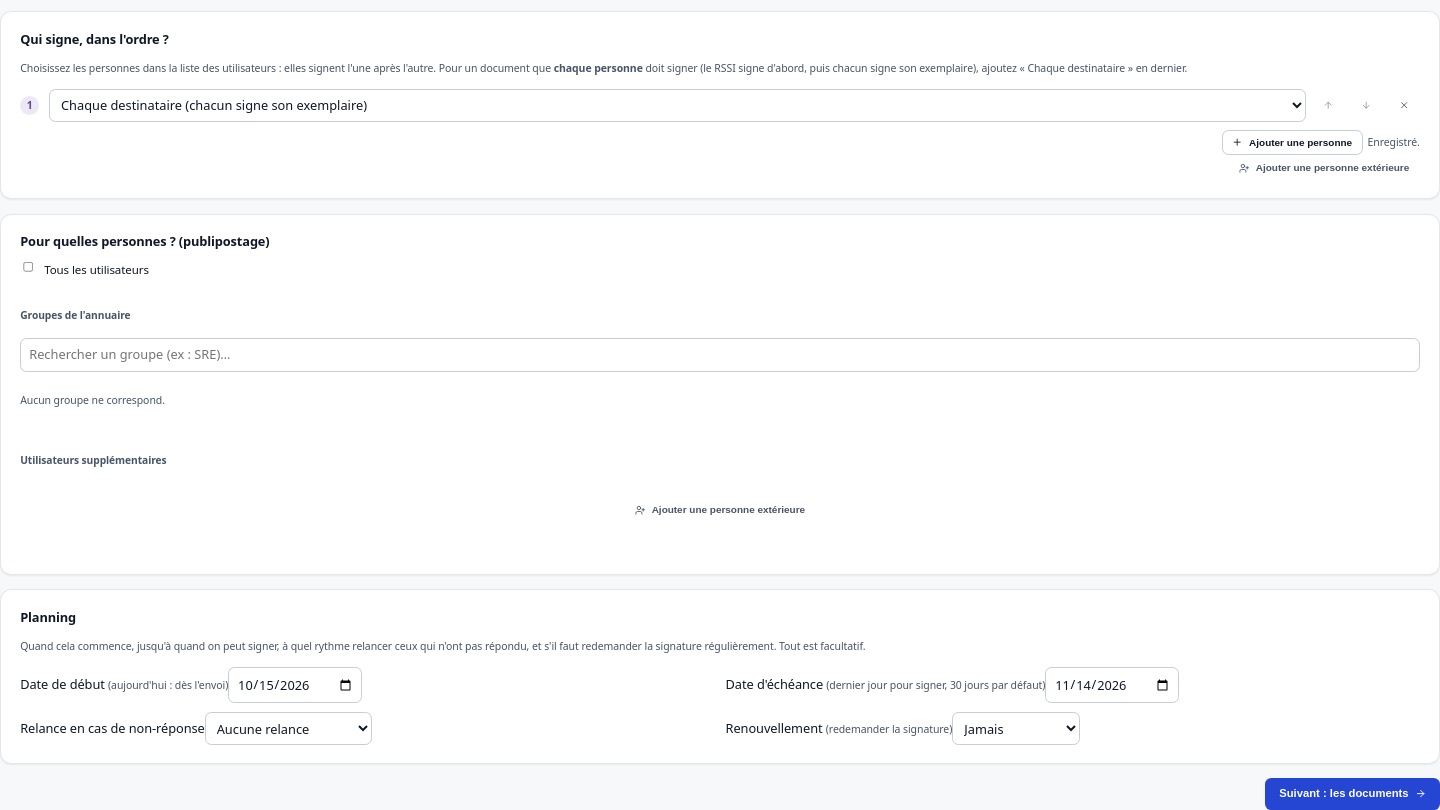
SignRequestPage › schedules the sending when a start date in the future is given
(page scrolled)
Expected: the element with test id "policy-card" is shown, left=0, top=589, right=1439, bottom=764
Type "2099-01-01" into the date field labelled "Date de début (aujourd'hui : dès l'envoi)".
click(295, 685); type("2099-01-01")  # box left=228, top=667, right=362, bottom=703
(page scrolled)
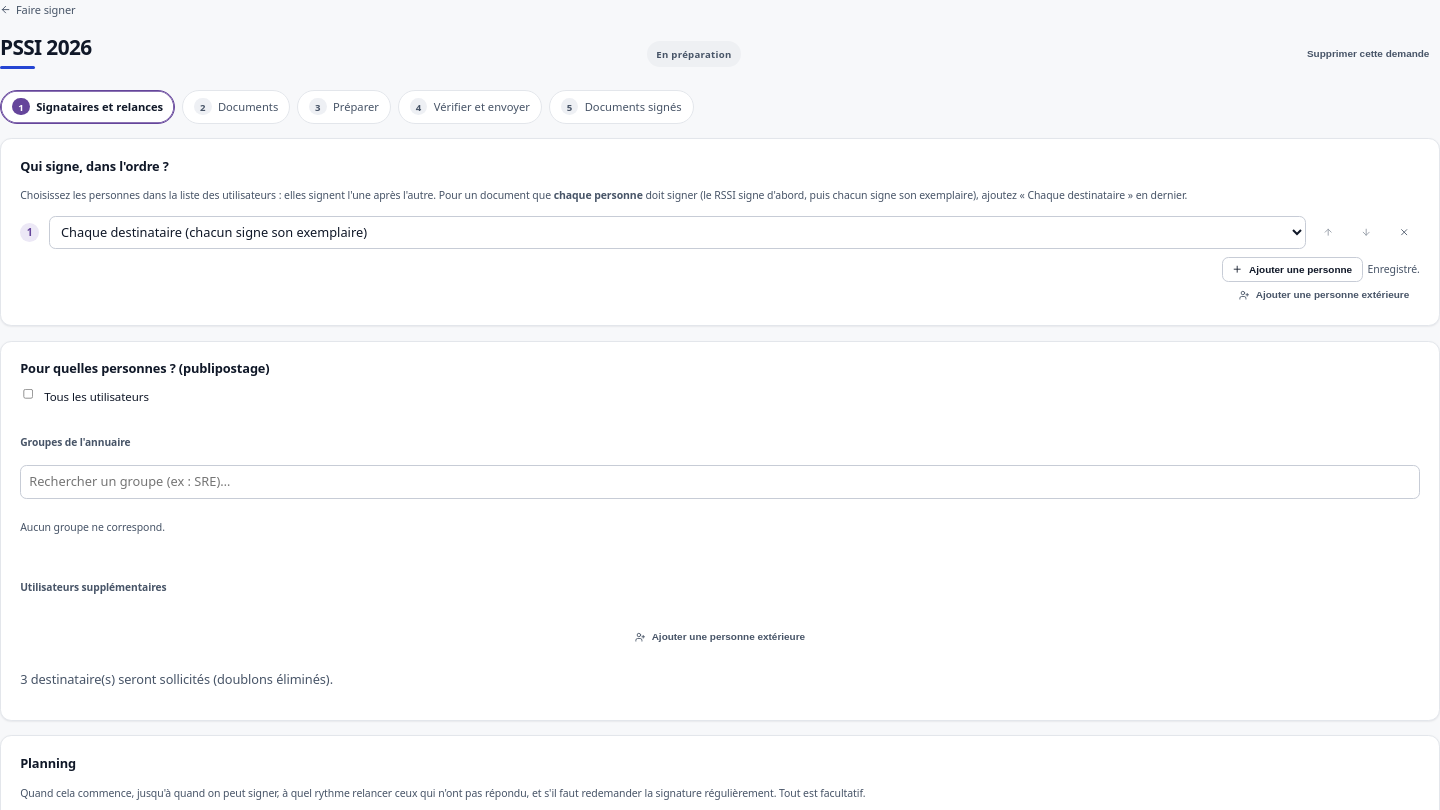
Click the button "4 Vérifier et envoyer".
click(470, 107)  # box left=398, top=90, right=542, bottom=124
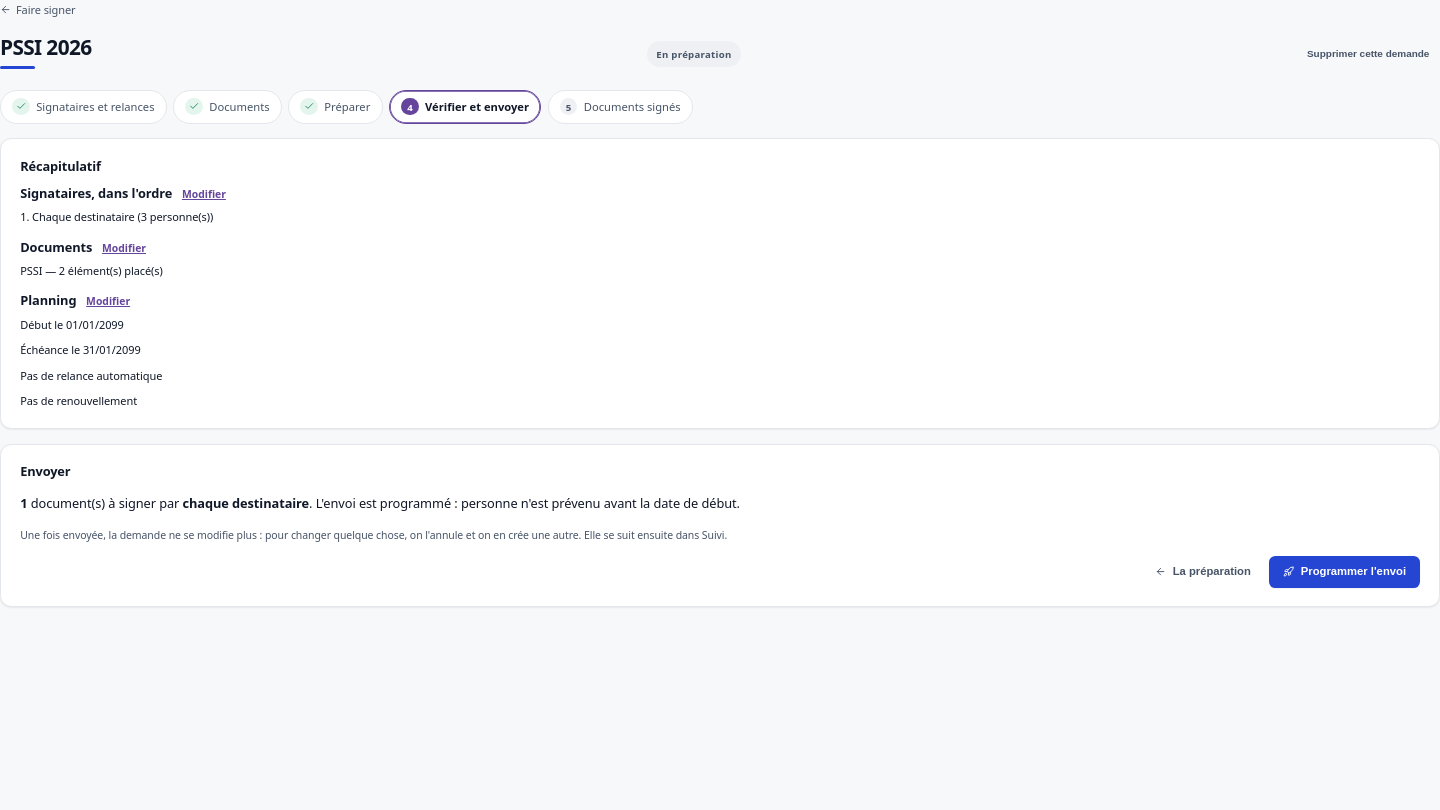
Result: the element with test id "recap-card" is shown at left=0, top=138, right=1439, bottom=429
Result: the element with test id "send-summary" shows "programmé : personne n'est prévenu avant" at left=316, top=494, right=740, bottom=512
Click the button "Programmer l'envoi".
click(1345, 572)  # box left=1269, top=556, right=1420, bottom=588
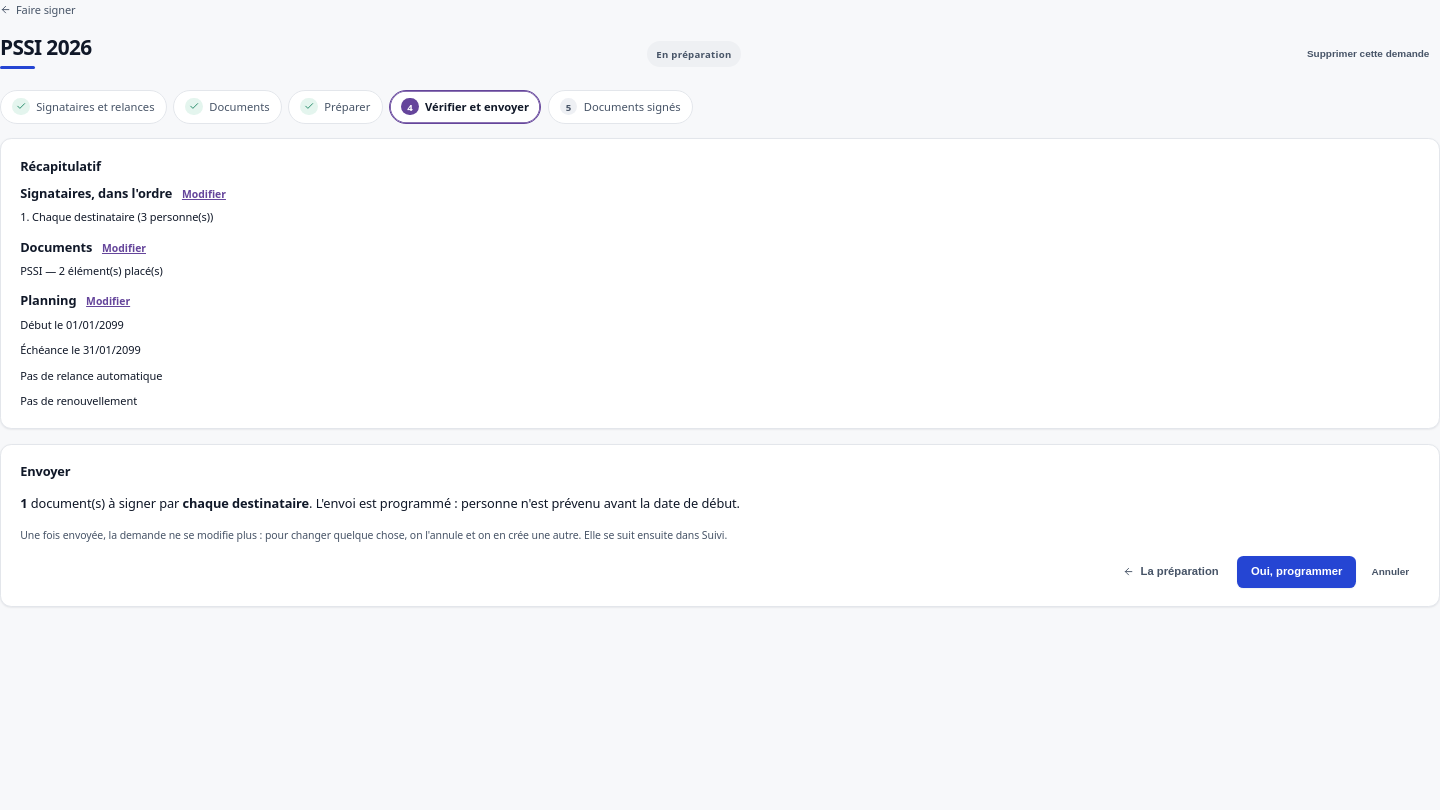
Click the button "Oui, programmer".
click(1297, 572)  # box left=1237, top=556, right=1356, bottom=588
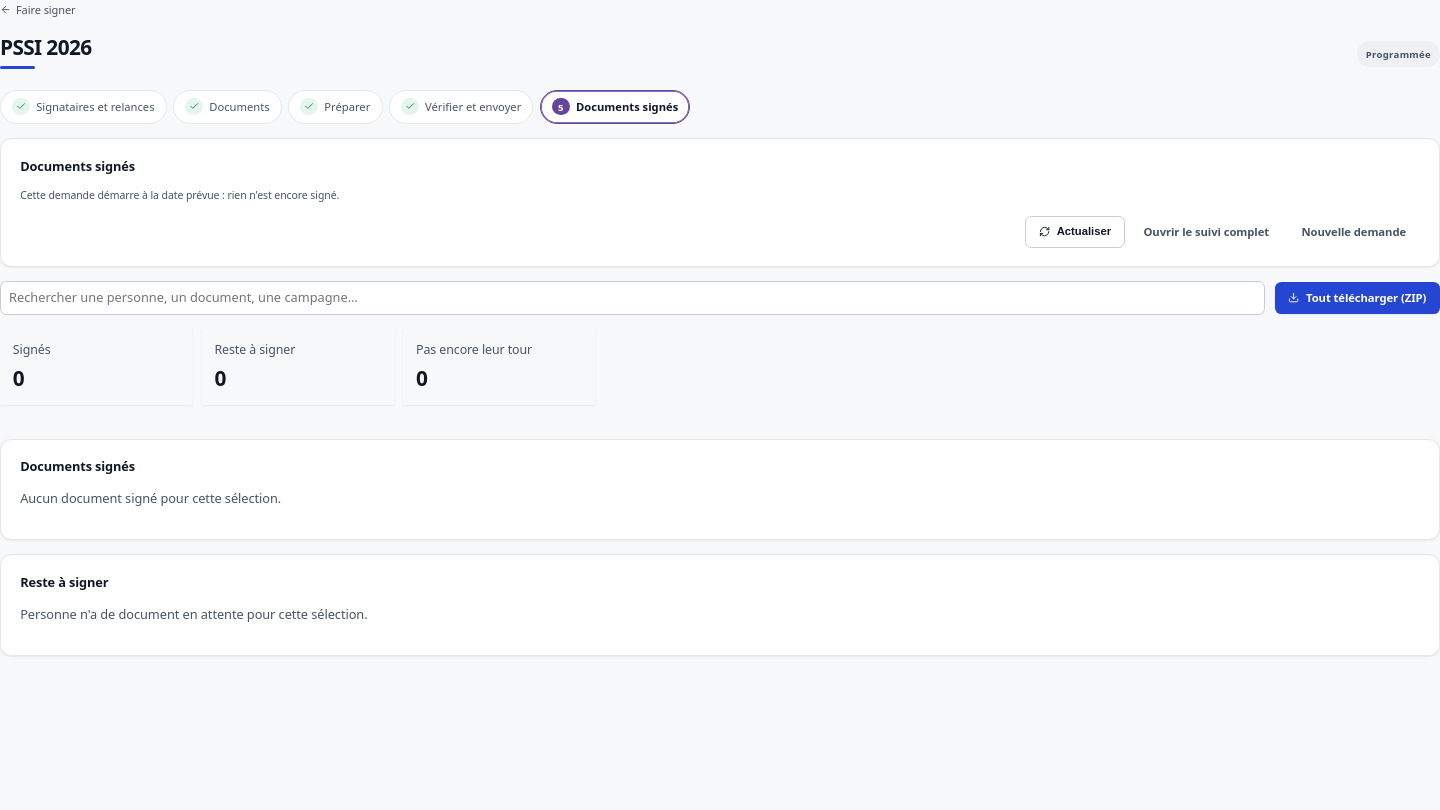
Result: the element with test id "signed-step" shows "démarre à la date prévue" at left=20, top=188, right=339, bottom=202
